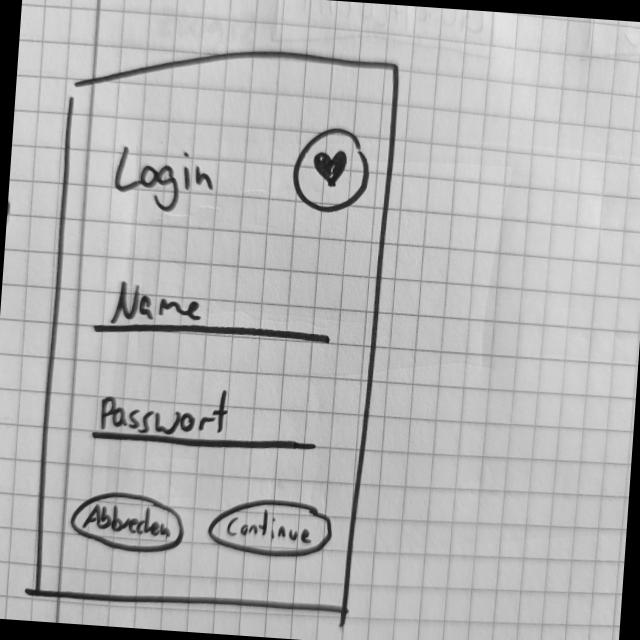button: (207, 493, 336, 564), (67, 488, 189, 557)
container: (28, 32, 403, 623)
icon-button: (289, 125, 374, 218)
input: (92, 276, 335, 354), (91, 376, 322, 458)
label: (108, 139, 222, 219)
